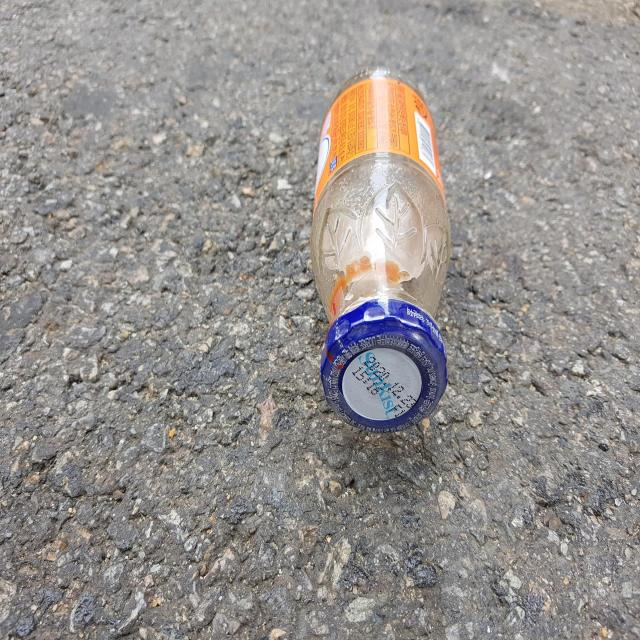glass: (311, 69, 451, 432)
